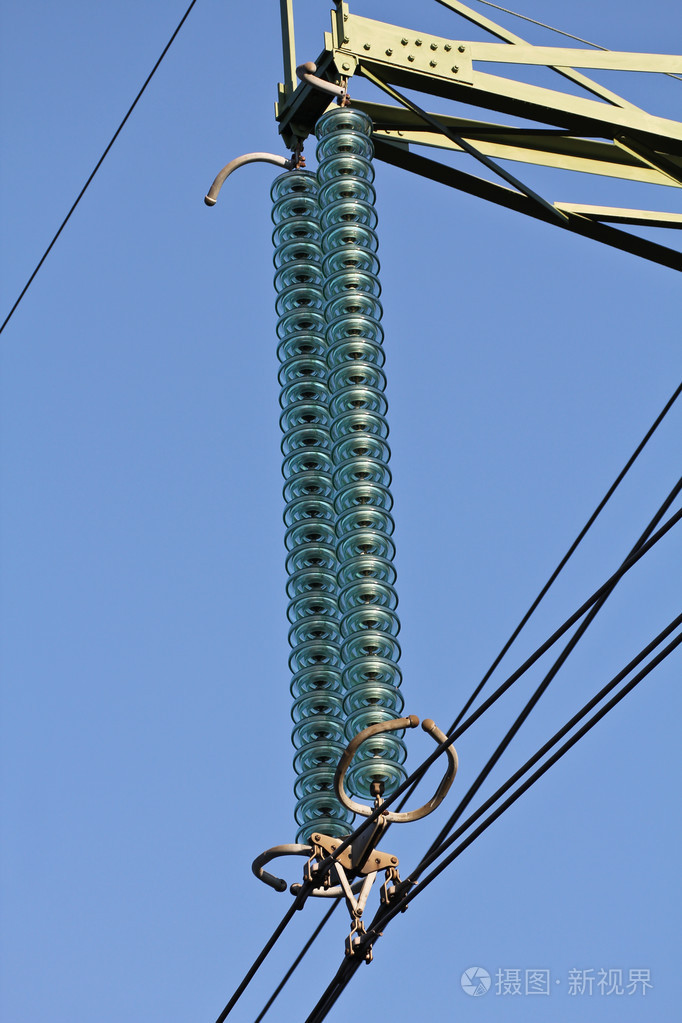insulator: (272, 108, 409, 850)
